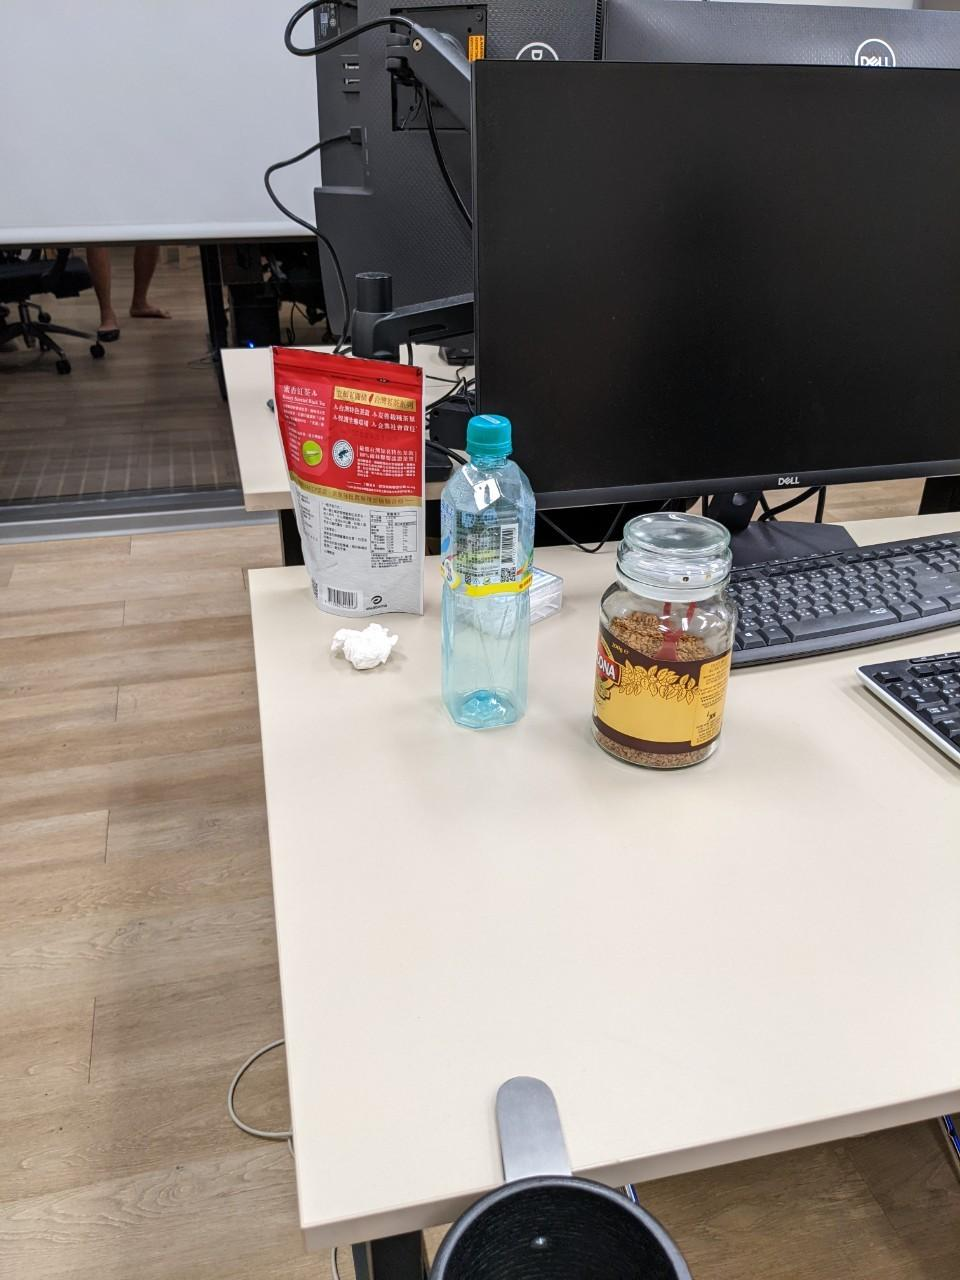BIODEGRADABLE: (438, 408, 543, 742)
